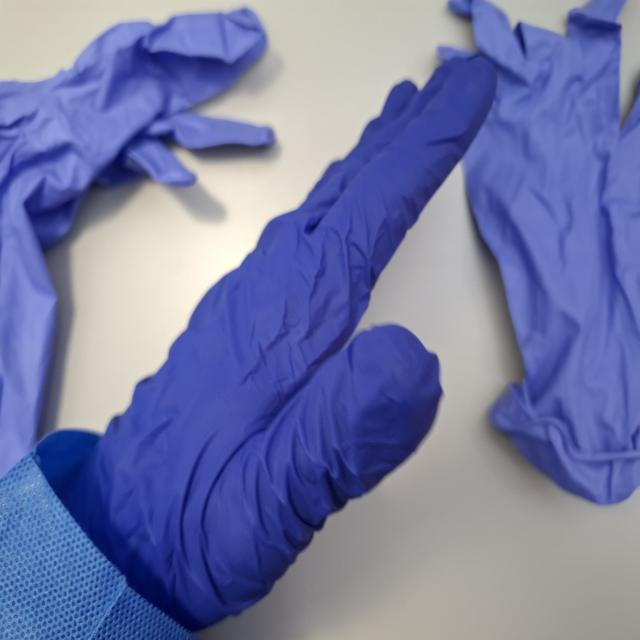glove_on: (64, 52, 501, 628)
